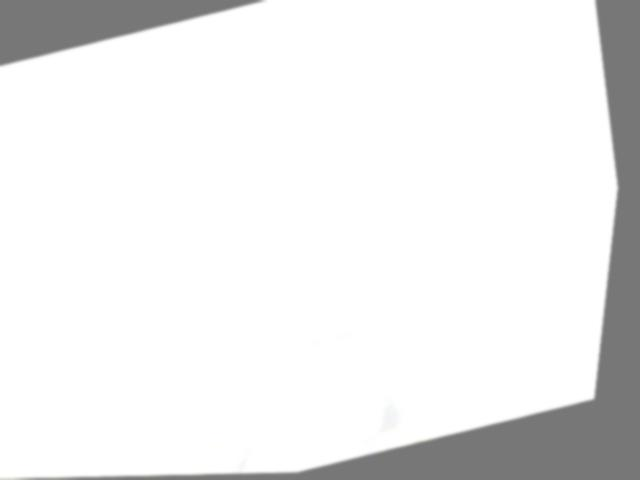iha: (67, 27, 175, 71)
